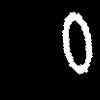chain: (62, 12, 92, 73)
